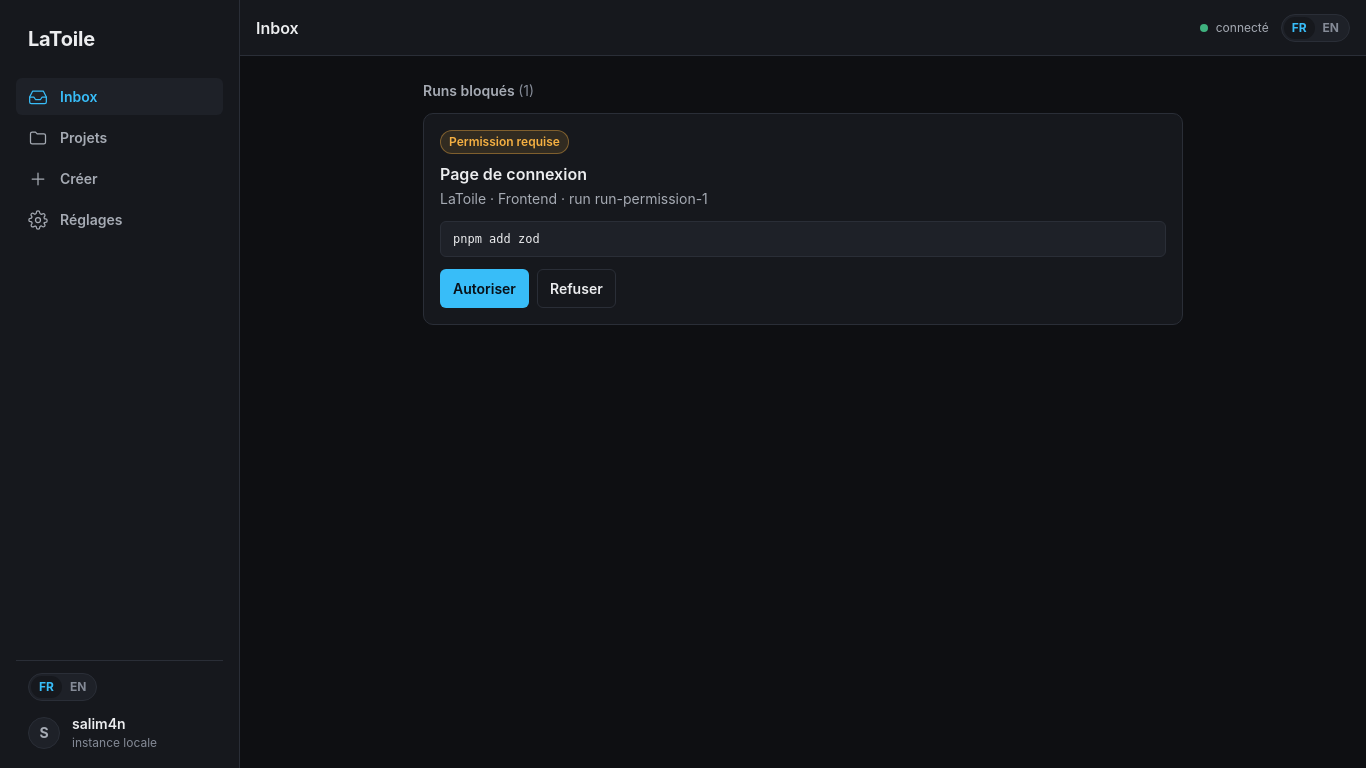
Test: InboxScreen visual contract › makes a failed permission decision recoverable in place
Click the button "Autoriser" at (484, 288), box [440,269,529,308]
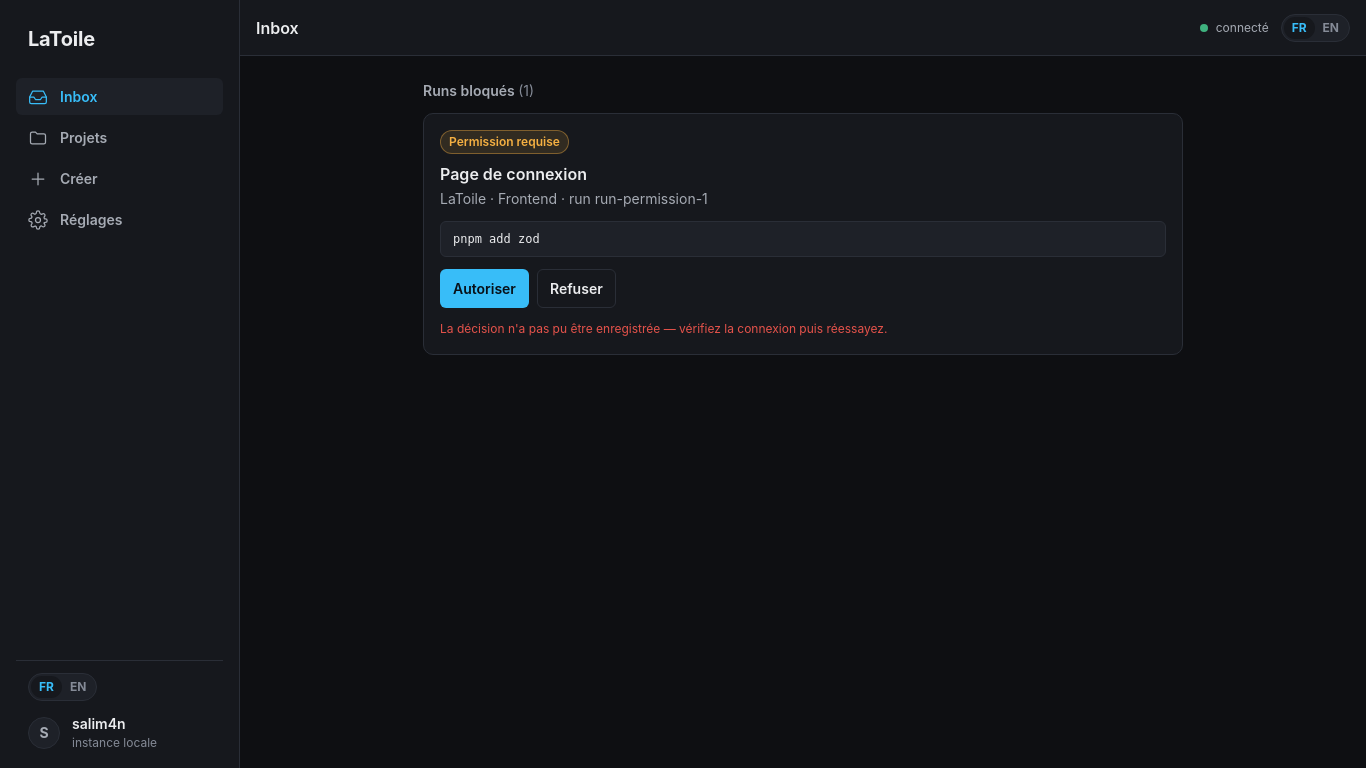
Result: the message shows "La décision n'a pas pu être enregistrée" at [440,321,887,336]
